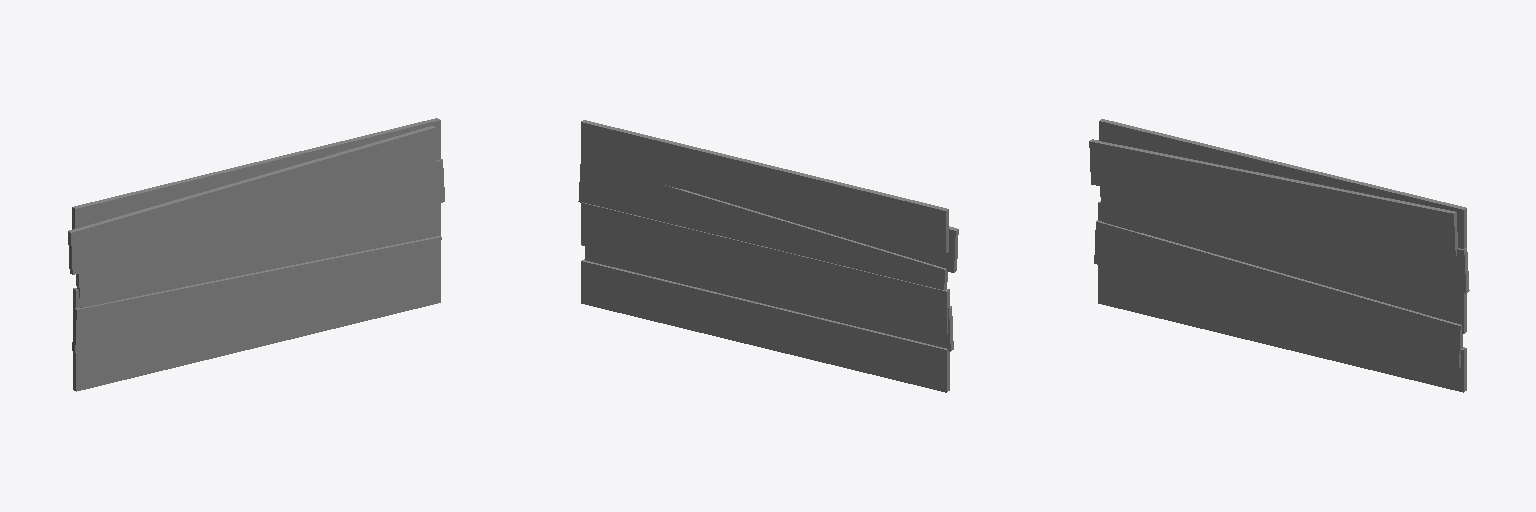
File: Board.obj
The picture shows the model from 3 angles: view 1: azimuth 30°, elevation 25°; view 2: azimuth 150°, elevation 25°; view 3: azimuth 330°, elevation 25°; orthographic projection.
Visible parts, largest first — view 1: Board; view 2: Board; view 3: Board.
Boxes of the visible parts, x1,y1,x2,y2 form: Board: [68, 118, 444, 391]; Board: [578, 120, 958, 392]; Board: [1089, 119, 1469, 392].
Size of the model in its own units: 2.45 by 1.13 by 0.0645.